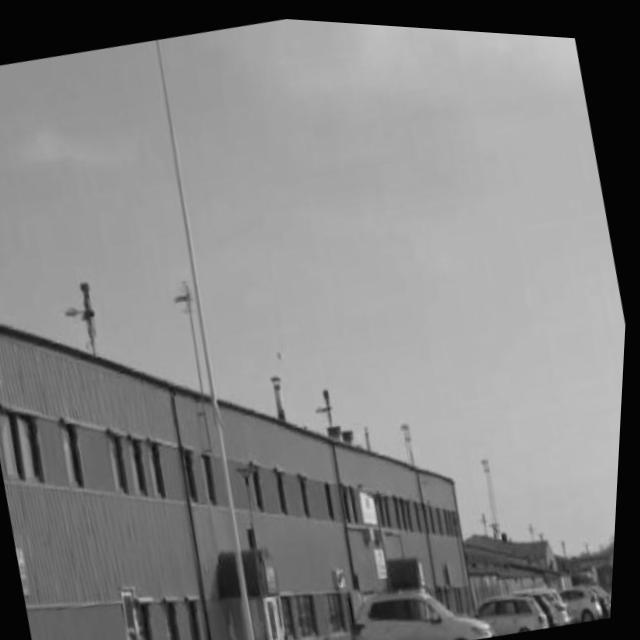helikopter: (268, 337, 291, 363)
